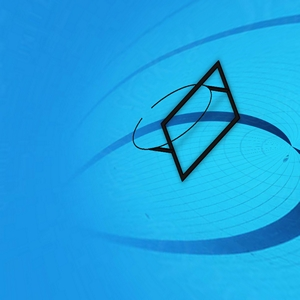circle: (131, 58, 242, 187)
